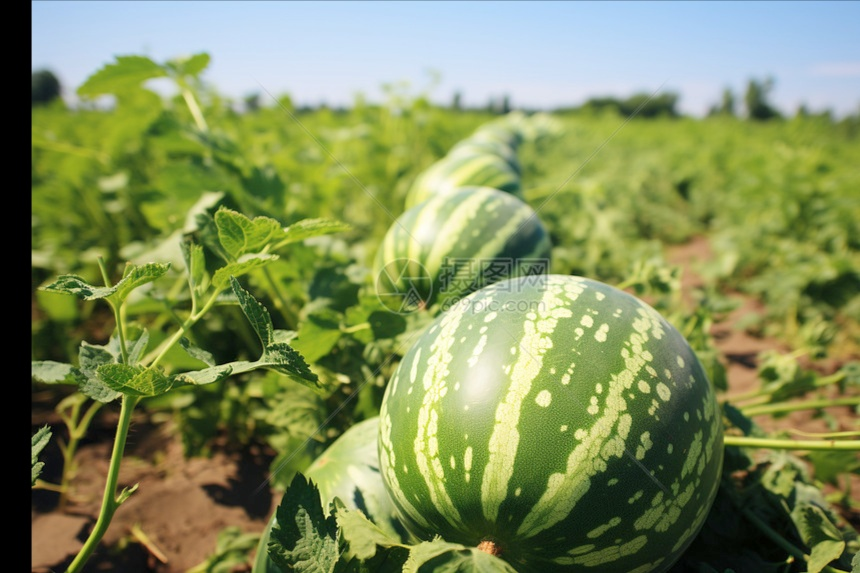watermelon: (374, 272, 715, 565), (376, 184, 548, 316)
